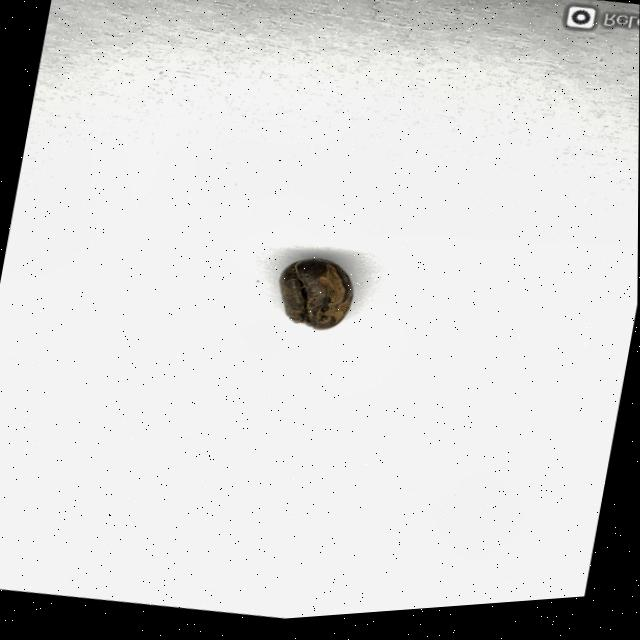Black: (269, 258, 361, 339)
